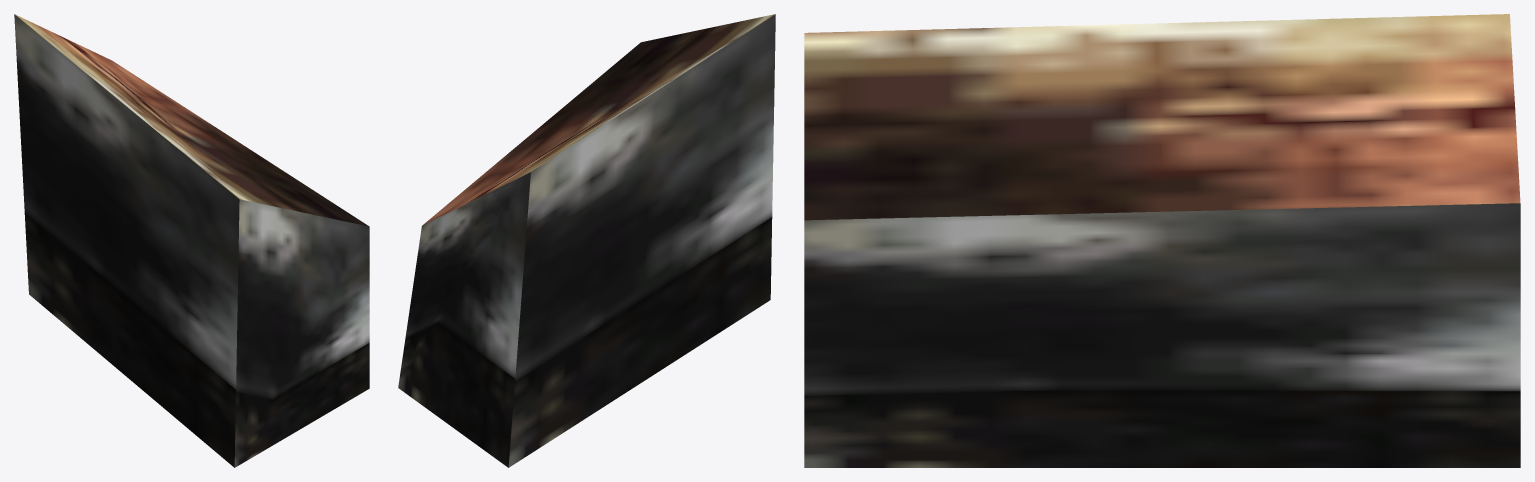
File: USA - Base Infrastructure - Power Plant - Damage State 22 - ABPWRPLANT_d22.glb
The picture shows the model from 3 angles, left to right: view 1: azimuth 30°, elevation 25°; view 2: azimuth 150°, elevation 25°; view 3: azimuth 270°, elevation 25°; orthographic projection. The views are drawn at different scales.
Visible parts, largest first — view 1: ABPWRPLANT_D22; view 2: ABPWRPLANT_D22; view 3: ABPWRPLANT_D22.
Part boxes in pixels (left/top/right/bottom): ABPWRPLANT_D22: left=14, top=14, right=369, bottom=467; ABPWRPLANT_D22: left=398, top=14, right=775, bottom=467; ABPWRPLANT_D22: left=804, top=14, right=1520, bottom=467.
Size of the model in its own units: 2.21 by 4.67 by 6.9.
Materials: 1 (1 with a texture image).
